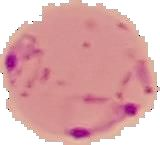parasitized: (4, 7, 155, 136), (4, 27, 56, 99), (63, 91, 123, 136), (117, 62, 160, 116)
